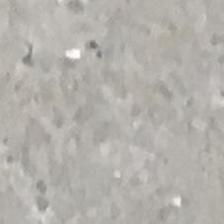Non_Crack: (7, 28, 221, 218)
